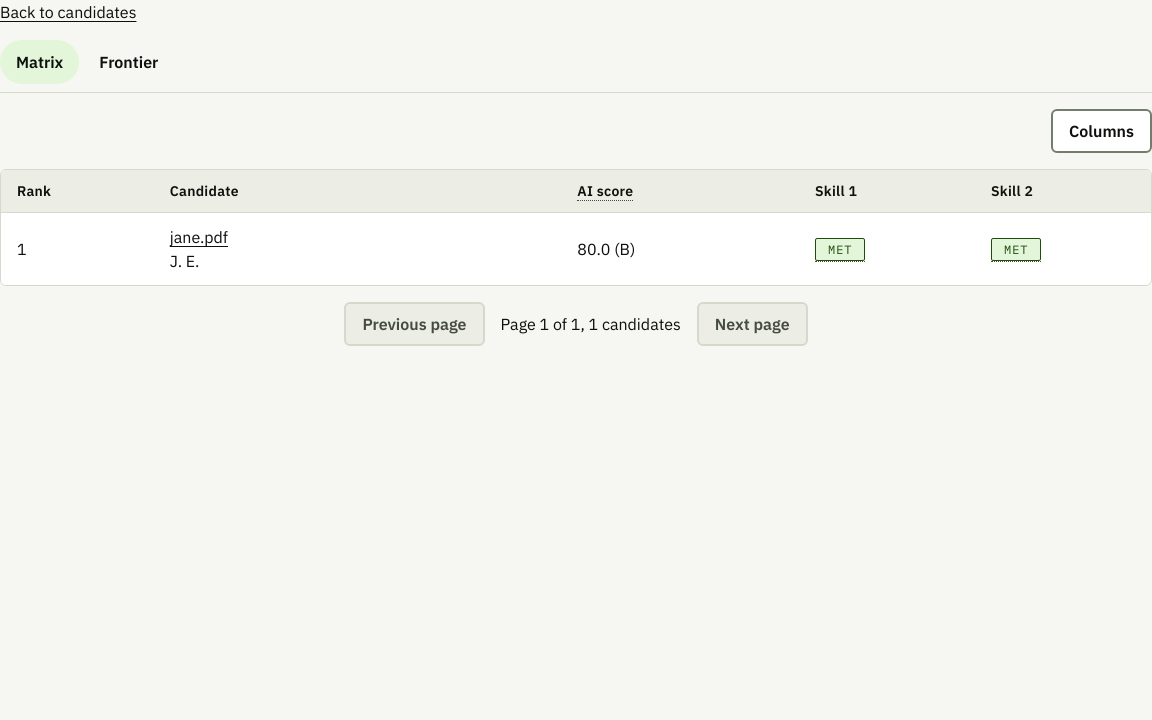
matrix columns › never lets the last shown column be switched off
This screenshot has width=1152, height=720.
Expected: the element named "Candidates against requirements" is shown, [0,169,1151,286]
Click the button "Columns" at (1102, 131), box [1051,109,1151,153]
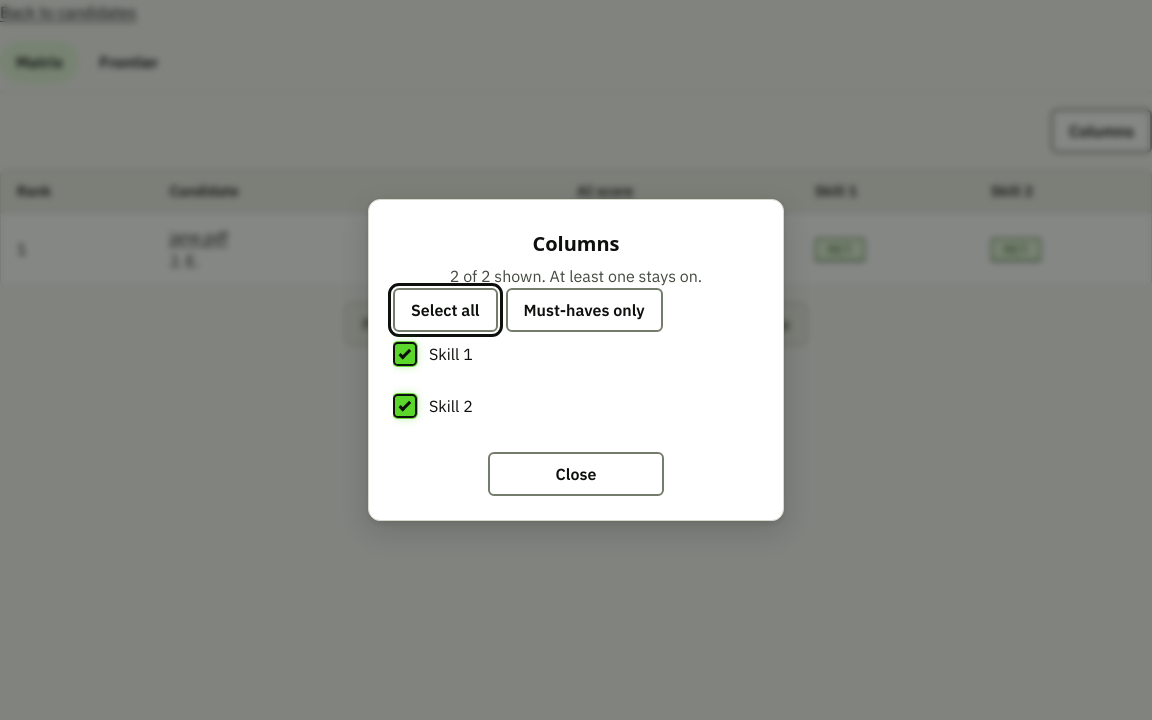
Click the checkbox labelled "Skill 1" at (405, 354), box [393,342,417,366]
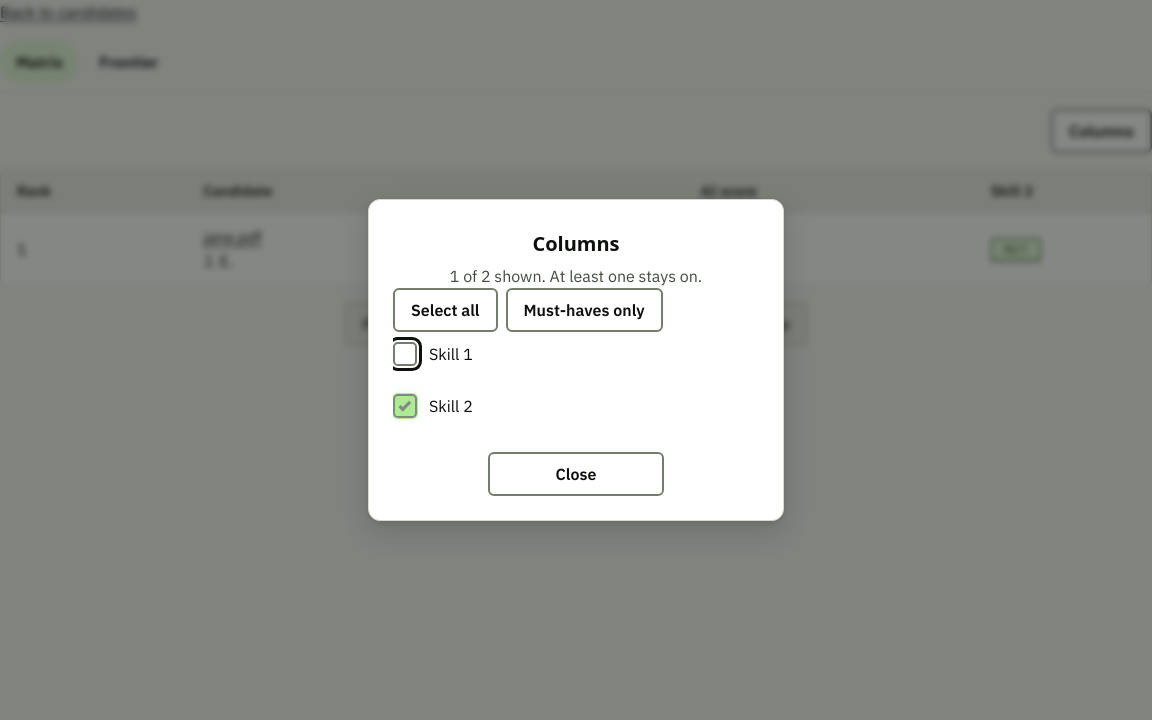
Now the checkbox labelled "Skill 2" is disabled, box [393,394,417,418]
